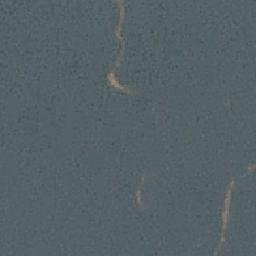debris: (106, 3, 130, 101), (218, 179, 235, 248), (132, 176, 145, 214)
